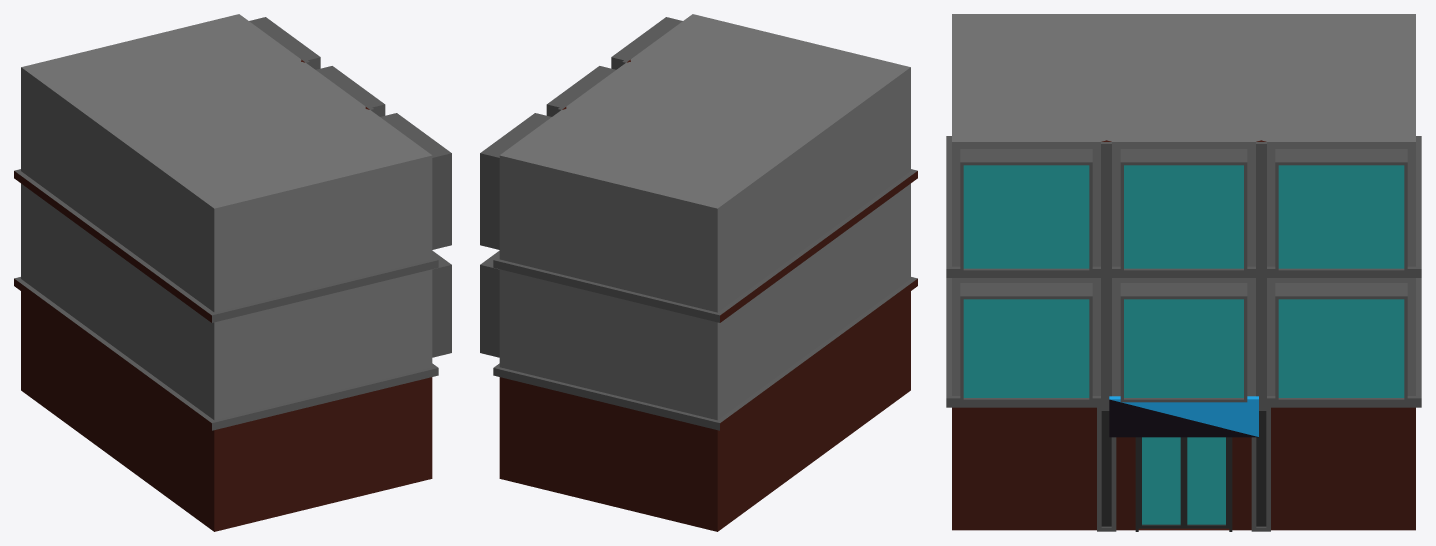
The model's file is PropBuilding_4.fbx.
The picture shows the model from 3 angles, left to right: view 1: azimuth 30°, elevation 25°; view 2: azimuth 150°, elevation 25°; view 3: azimuth 270°, elevation 25°; orthographic projection. The views are drawn at different scales.
Visible parts, largest first — view 1: PropBulding4_Body; view 2: PropBulding4_Body; view 3: PropBulding4_Body, PropBulding4_Body.001, Cube.010.
Part boxes in pixels (box(x1,y1,x2,y2)): PropBulding4_Body: box(14, 14, 451, 531); PropBulding4_Body: box(480, 14, 917, 531); PropBulding4_Body: box(946, 14, 1421, 531); PropBulding4_Body.001: box(1138, 437, 1229, 528); Cube.010: box(1109, 396, 1258, 437).
Size of the model in its own units: 1638 by 2059 by 2282.
Materials: 3 (3 with a texture image).
